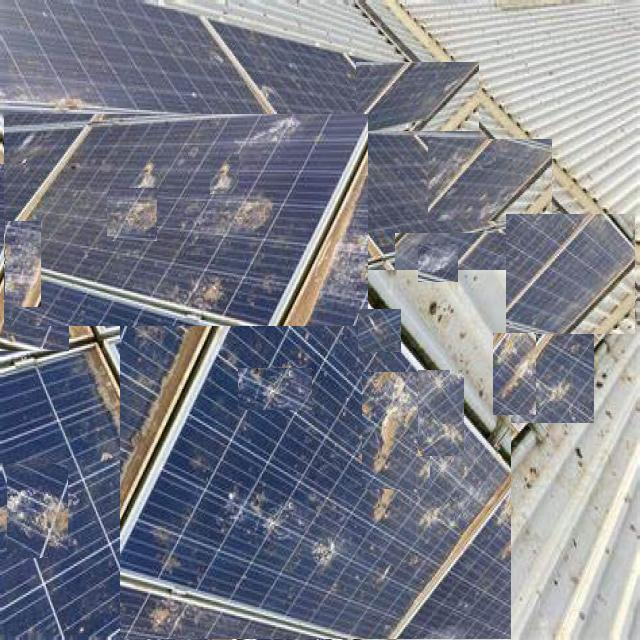Bird-drop: (362, 372, 430, 489), (419, 370, 465, 456), (73, 106, 139, 162), (493, 334, 536, 416), (293, 318, 345, 381), (238, 368, 312, 410), (6, 221, 42, 307), (107, 188, 157, 241), (336, 119, 370, 175), (358, 309, 401, 352), (418, 244, 458, 282), (210, 154, 239, 194)
Dusty: (120, 270, 511, 640), (5, 114, 368, 326), (0, 355, 213, 638), (395, 233, 594, 423), (0, 3, 265, 120), (295, 130, 489, 251), (216, 24, 401, 130), (506, 214, 635, 334), (1, 165, 69, 351), (429, 140, 552, 221), (357, 62, 479, 131), (7, 465, 68, 559)
